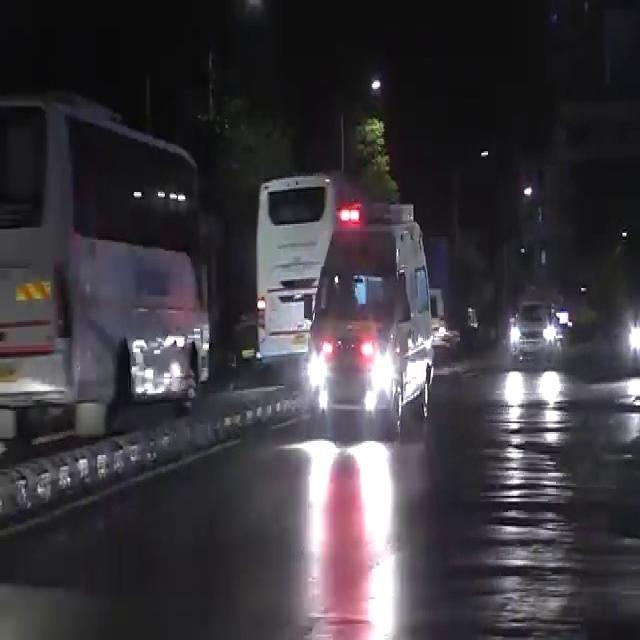ambulance: (303, 161, 442, 443)
